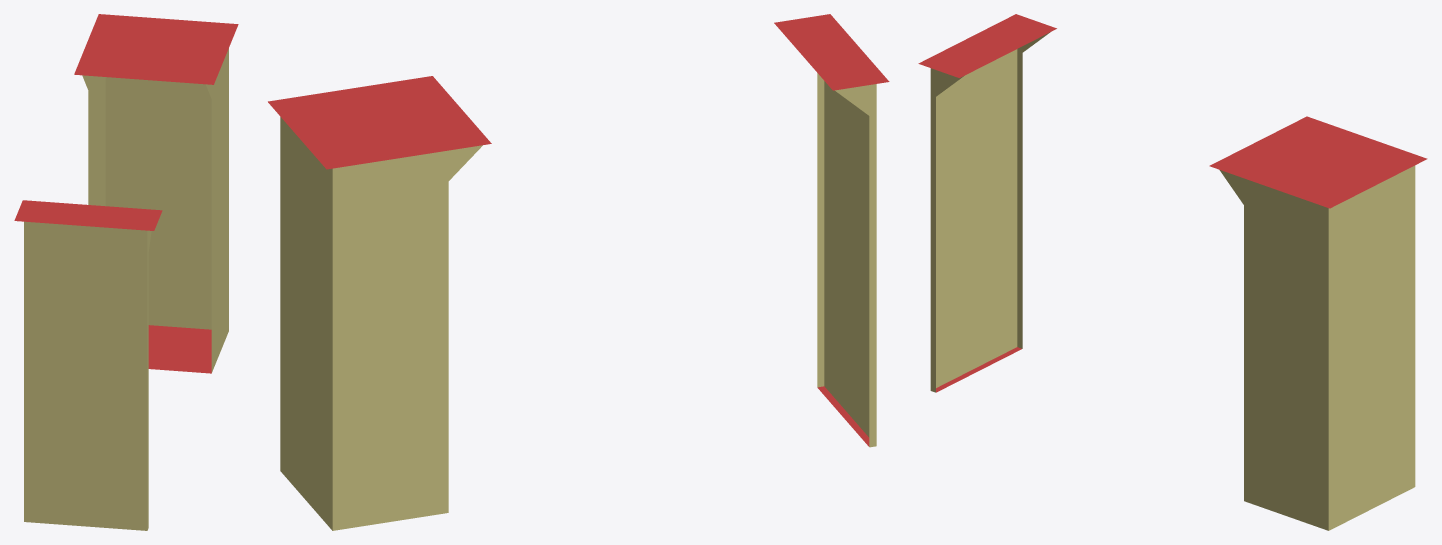
3 renders of one model, left to right at view 1: azimuth 30°, elevation 25°; view 2: azimuth 150°, elevation 25°; view 3: azimuth 270°, elevation 25°, orthographic. The views are drawn at different scales.
Parts seen in each view (by area): view 1: group_5, group_3, group_6, group_4; view 2: group_5, group_3; view 3: group_5, group_3.
Part boxes in pixels (<box>): group_5: <box>24,48,228,530</box>; group_3: <box>14,14,238,230</box>; group_6: <box>148,325,211,373</box>; group_4: <box>17,14,235,218</box>; group_5: <box>280,73,876,530</box>; group_3: <box>268,14,889,169</box>; group_5: <box>930,32,1415,530</box>; group_3: <box>918,14,1427,208</box>.
Bounding box in the file's own units: 12.85 × 14.23 × 10.09.
